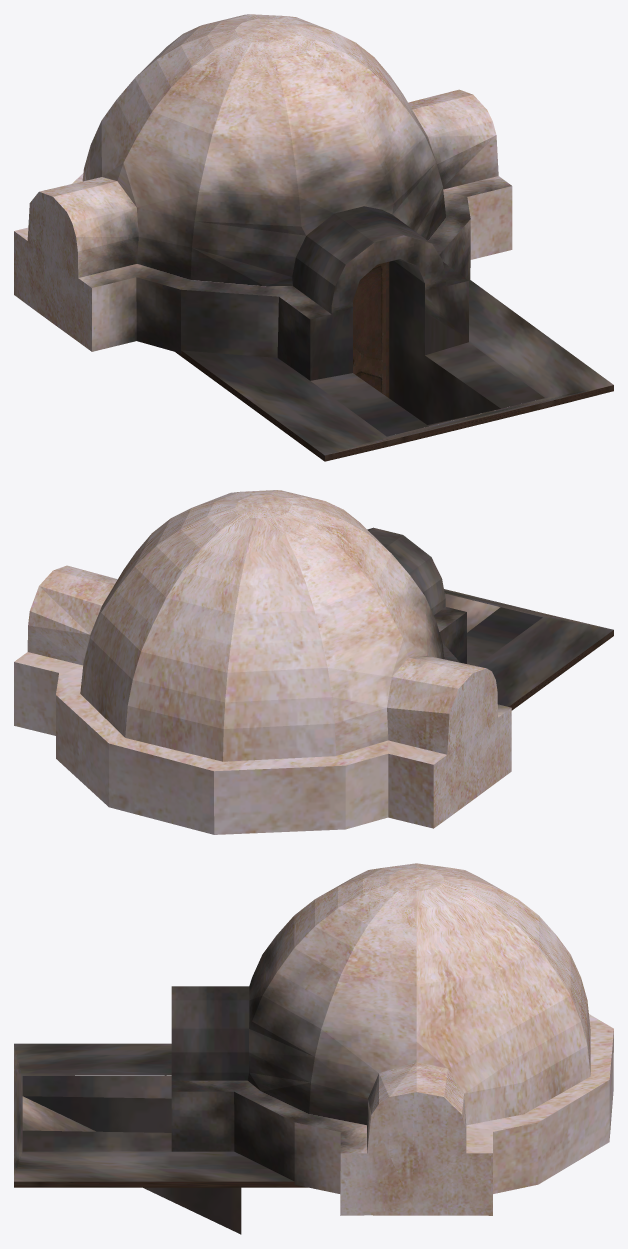
Rendered from thm_tato_luke_farm_dome_l1.fbx.
3 views of the same model, one above another, from view 1: azimuth 30°, elevation 25°; view 2: azimuth 150°, elevation 25°; view 3: azimuth 270°, elevation 25° (orthographic). The views are drawn at different scales.
Parts seen in each view (by area): view 1: mesh_node; view 2: mesh_node; view 3: mesh_node.
Boxes of the visible parts, x1,y1,x2,y2 form: mesh_node: (14,14,613,461); mesh_node: (14,490,613,834); mesh_node: (14,863,613,1234).
Bounding box in the file's own units: 6.7 × 5.31 × 8.48.
